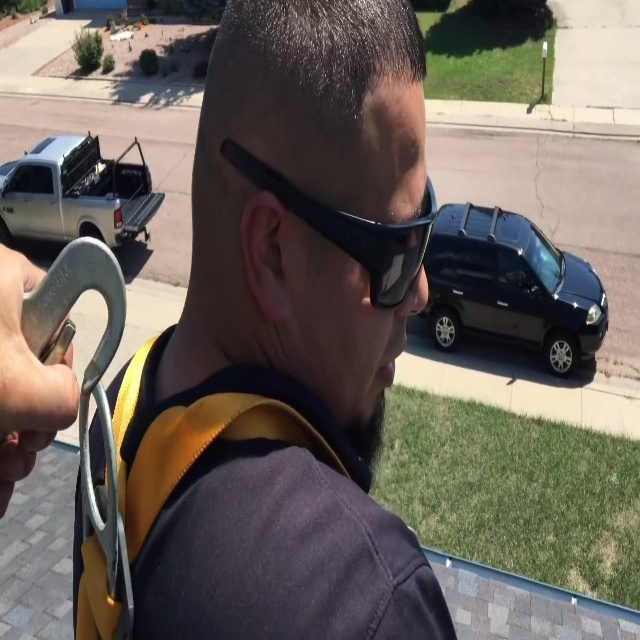Arnes_seguridad: (34, 226, 376, 638)
